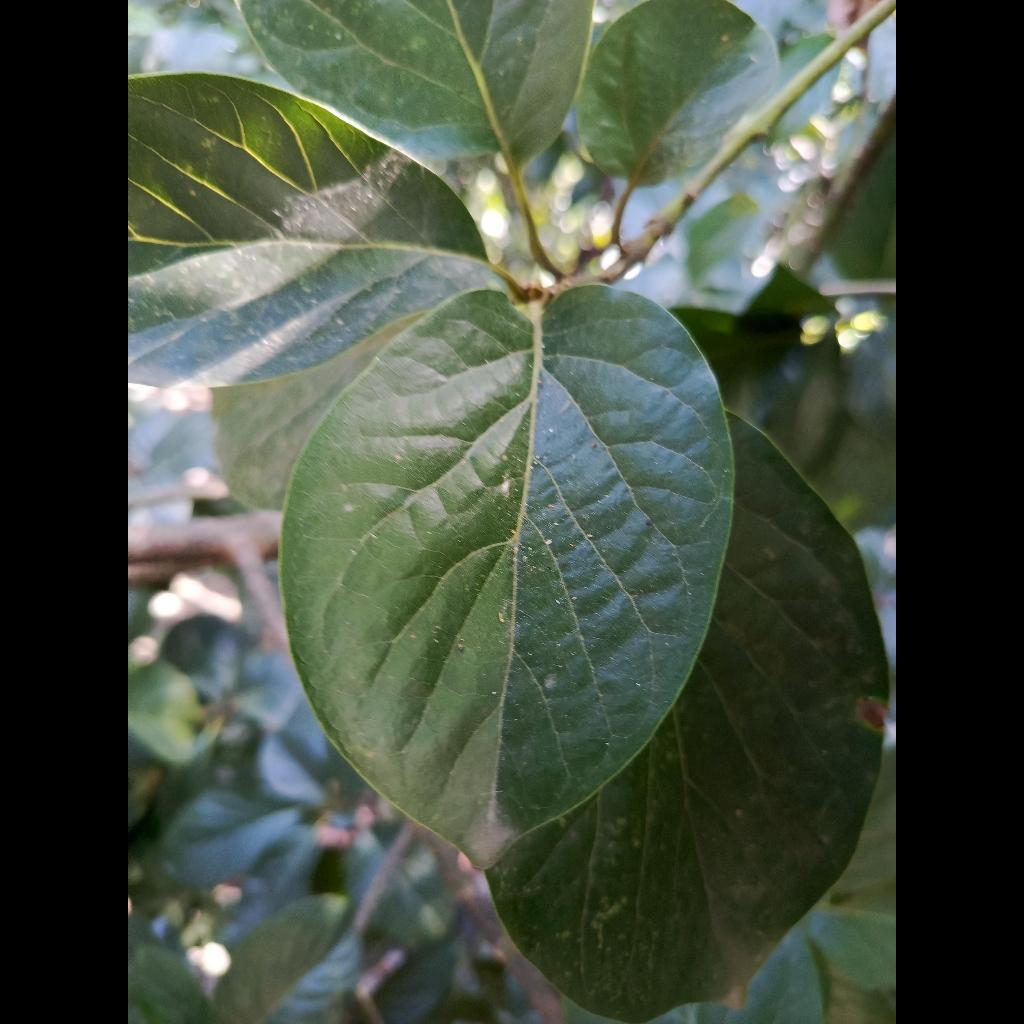Healthy: (281, 285, 733, 868)
